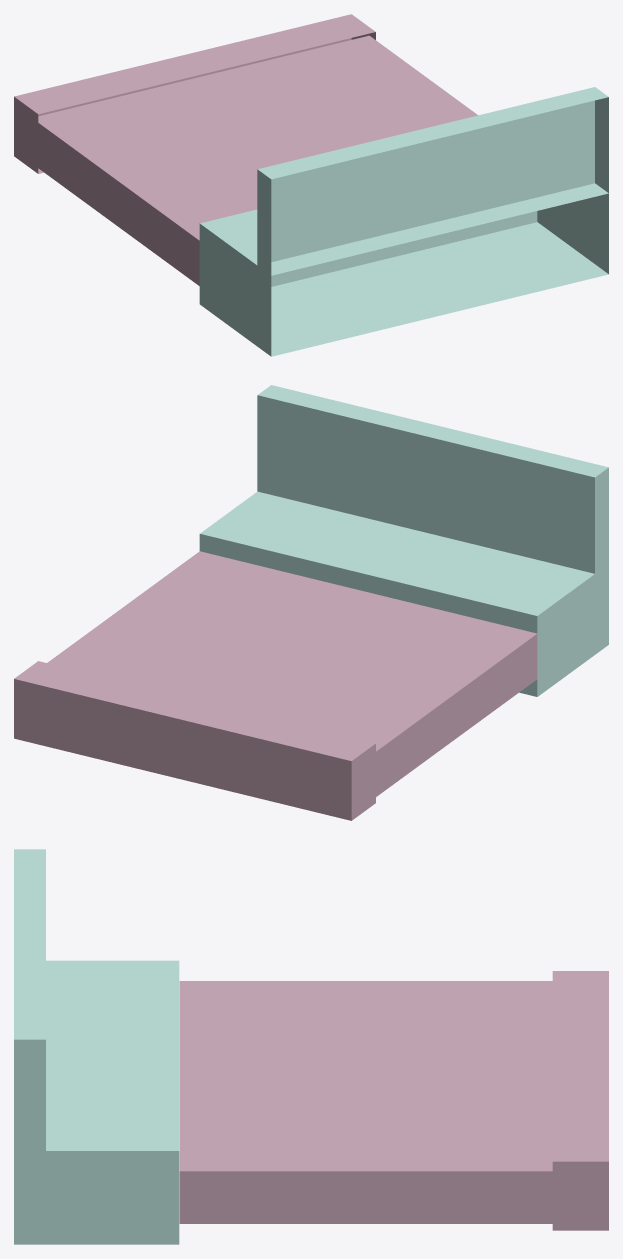
3 renders of one model, top to bottom at view 1: azimuth 30°, elevation 25°; view 2: azimuth 150°, elevation 25°; view 3: azimuth 270°, elevation 25°, orthographic. The views are drawn at different scales.
Visible parts, largest first — view 1: Object78; view 2: Object78; view 3: Object78.
Part boxes in pixels (<box>): Object78: <box>14,14,608,356</box>; Object78: <box>14,385,608,820</box>; Object78: <box>14,849,608,1244</box>.
Bounding box in the file's own units: 20009 × 10045 × 26420.
